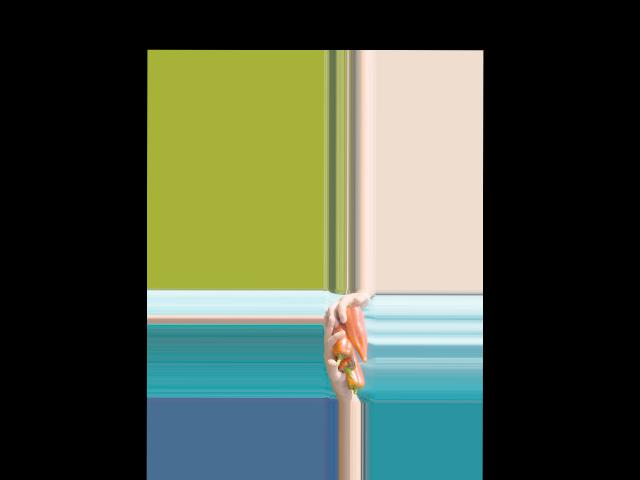bell_pepper: (344, 357, 364, 394)
